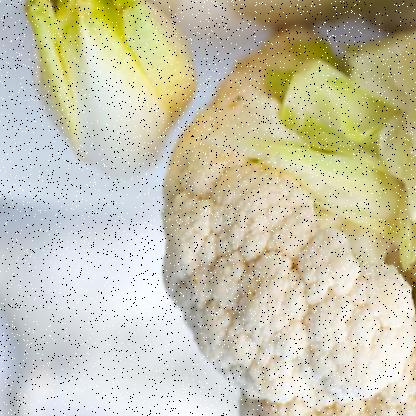cauliflower: (160, 85, 415, 414)
